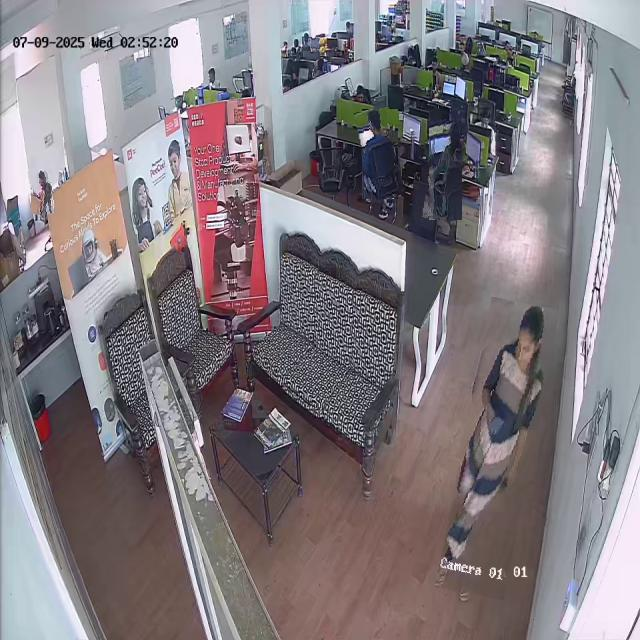person: (449, 299, 547, 599), (358, 108, 402, 200), (426, 120, 465, 221), (29, 168, 54, 214)
